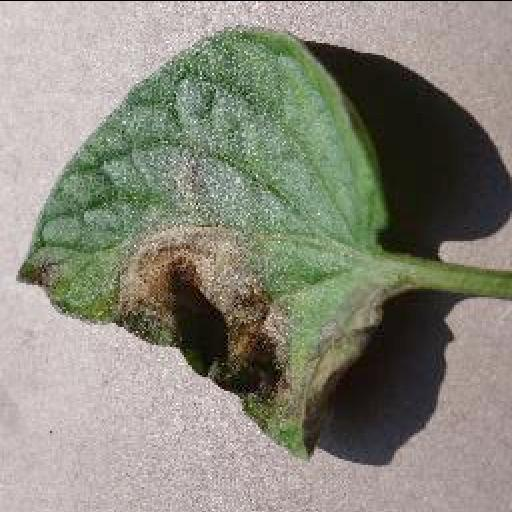disease_tomato: (12, 20, 390, 458)
